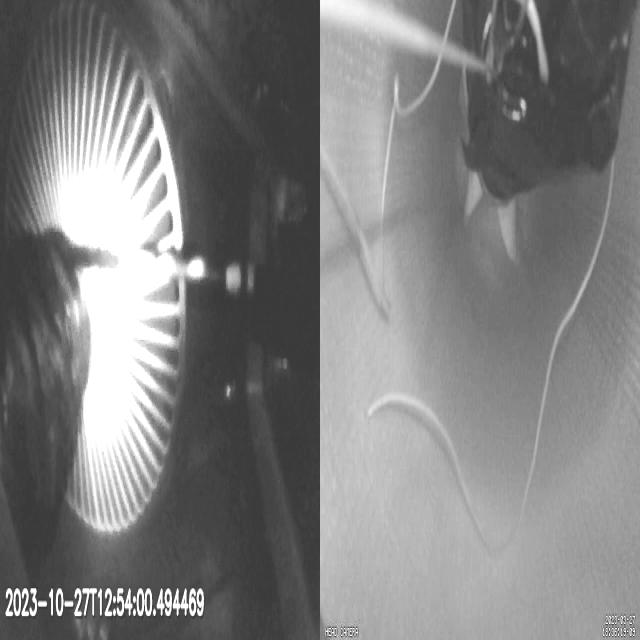white-dots: (224, 260, 257, 294)
